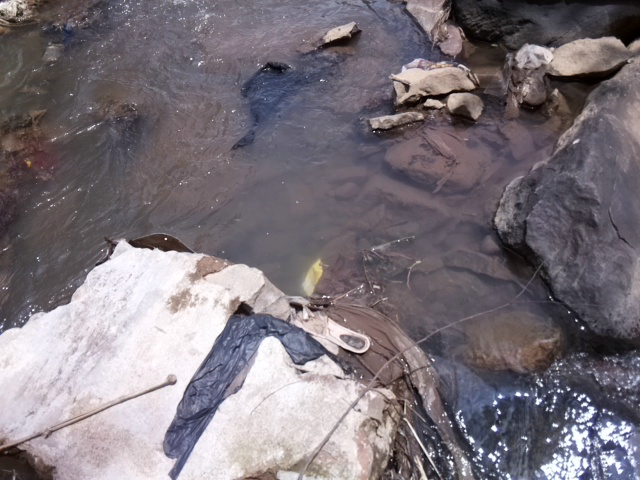Sampah_Plastik: (163, 303, 337, 476)
